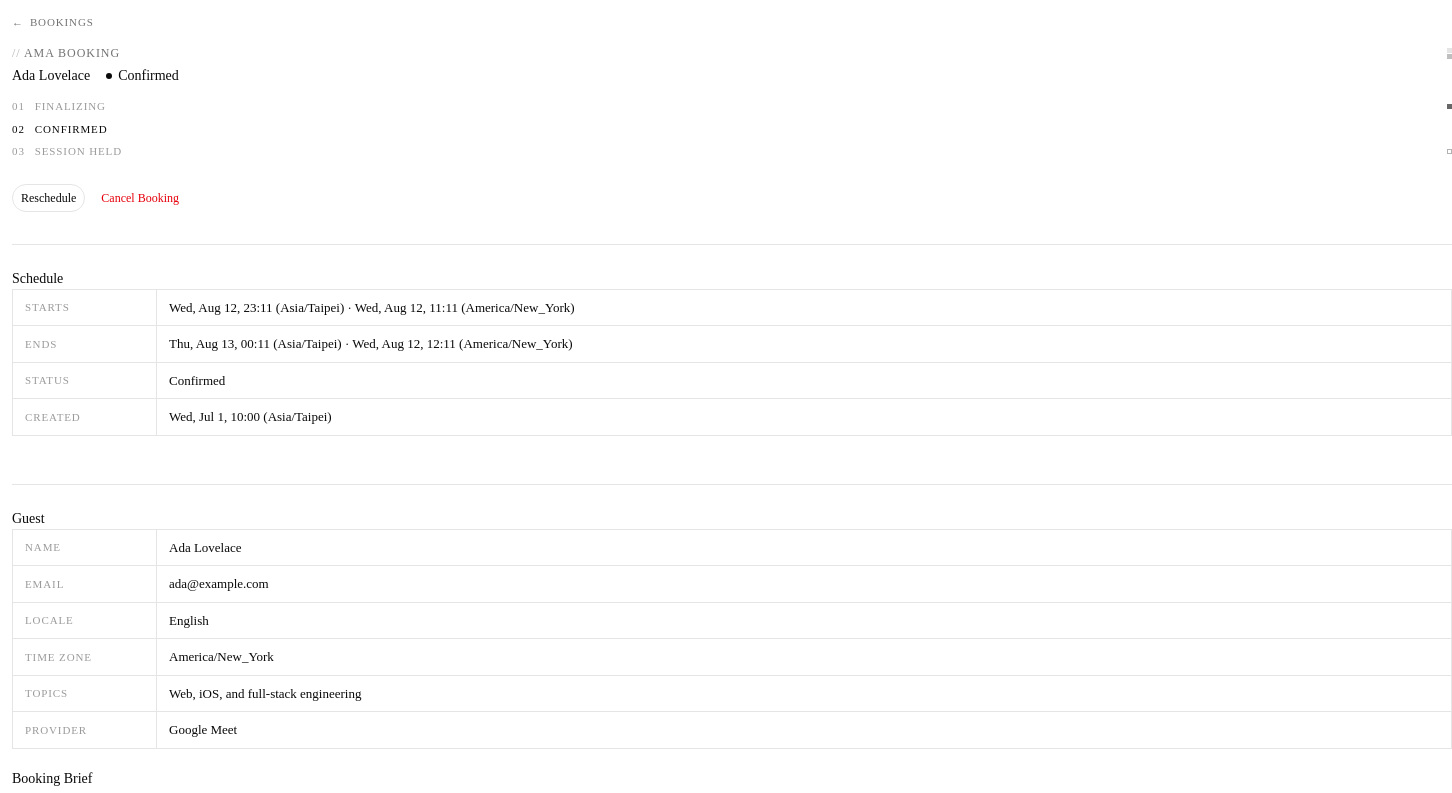
Test: AMA booking detail › refetches open times when the chosen slot is taken
Click the button "Reschedule".
click(49, 198)  # box [12,184,85,212]
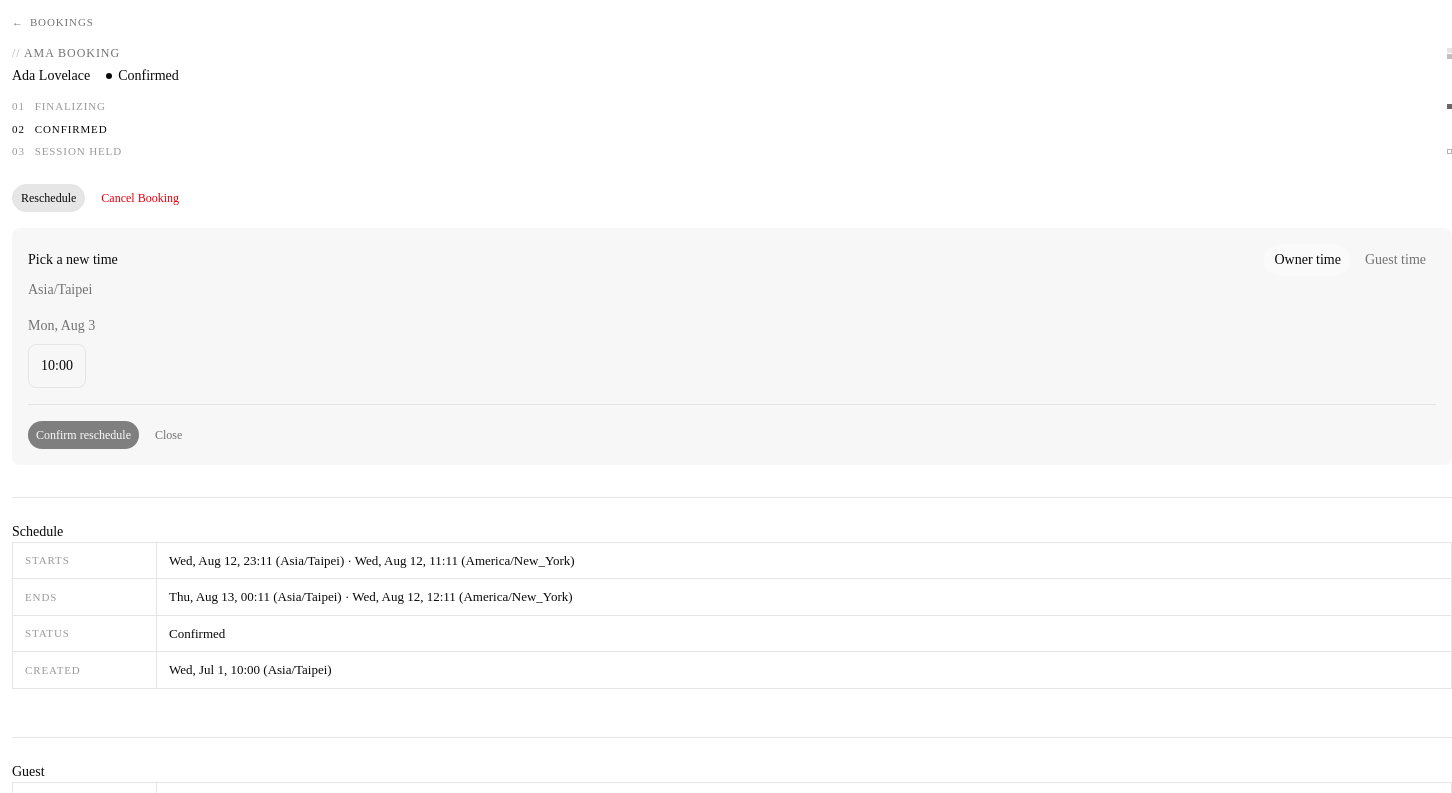
Check: the button "10:00" is shown
Click the button "10:00".
click(57, 366)  # box [28,344,86,388]
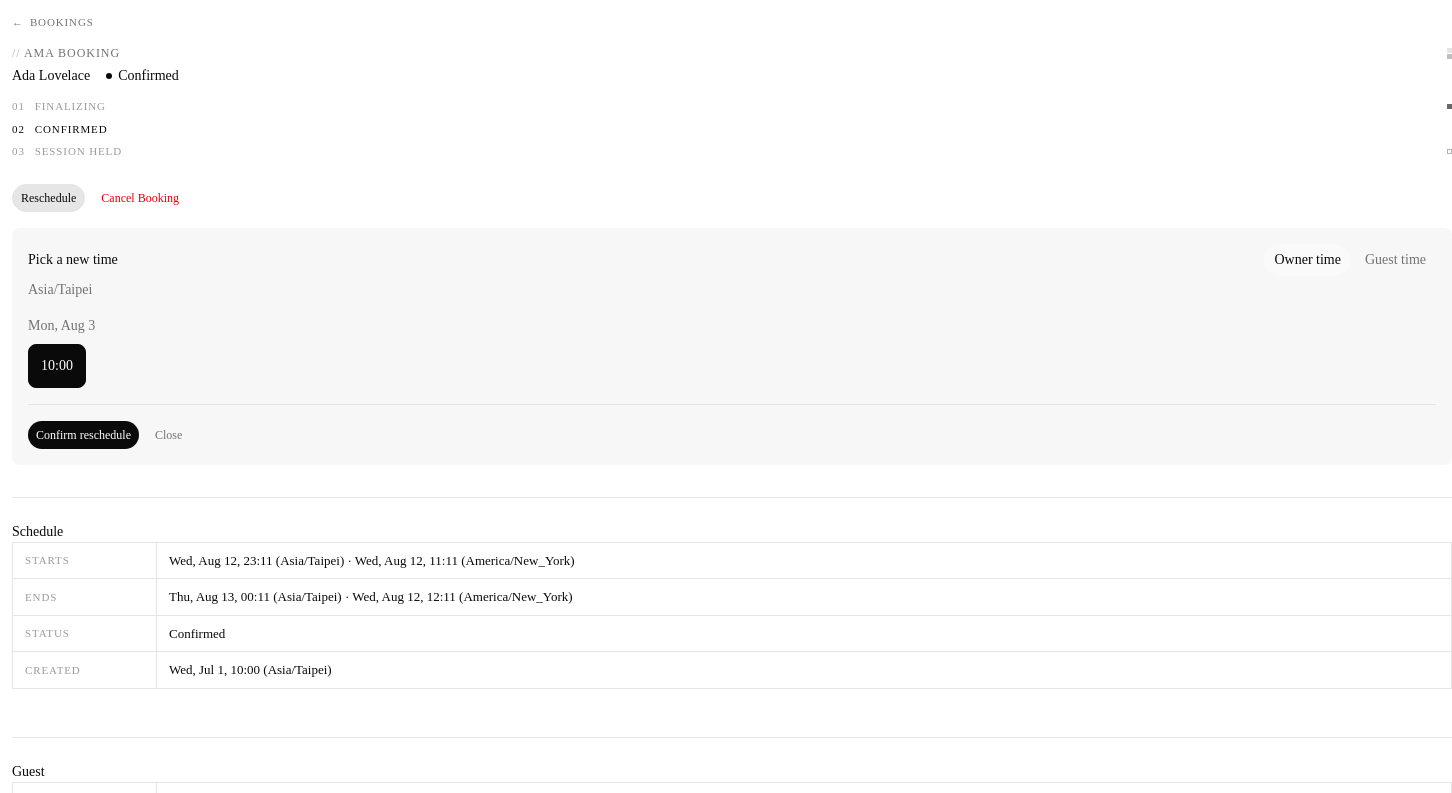
Click the button "Confirm reschedule".
click(84, 434)  # box [28,420,139,448]
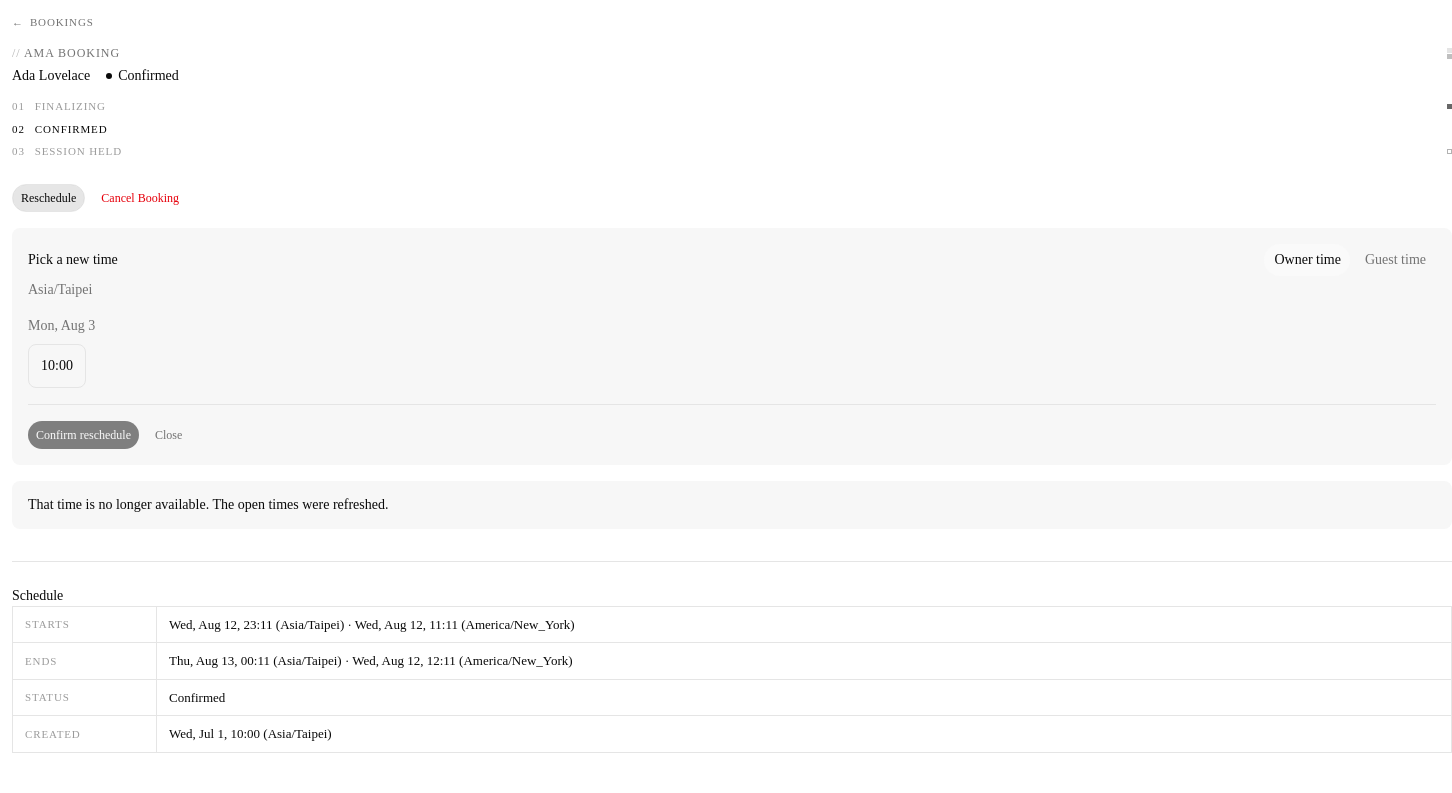
Check: the text "That time is no longer available." is shown, box [28,496,388,512]
